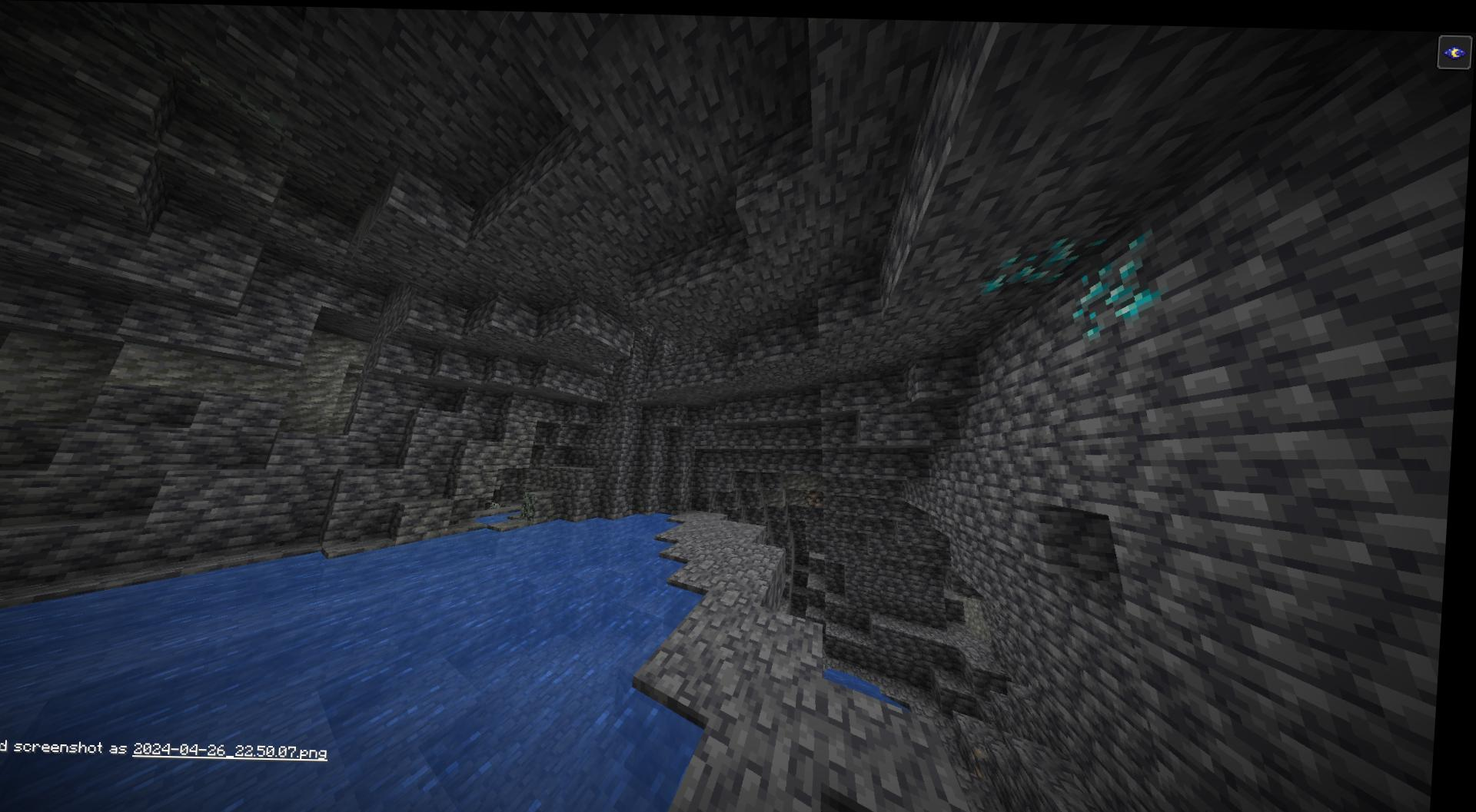diamond ore: (1081, 232, 1159, 340), (986, 233, 1088, 283)
iron ore: (810, 483, 833, 507)
